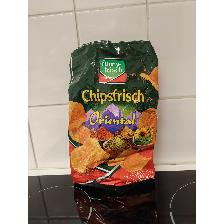Chips: (66, 38, 158, 188)
